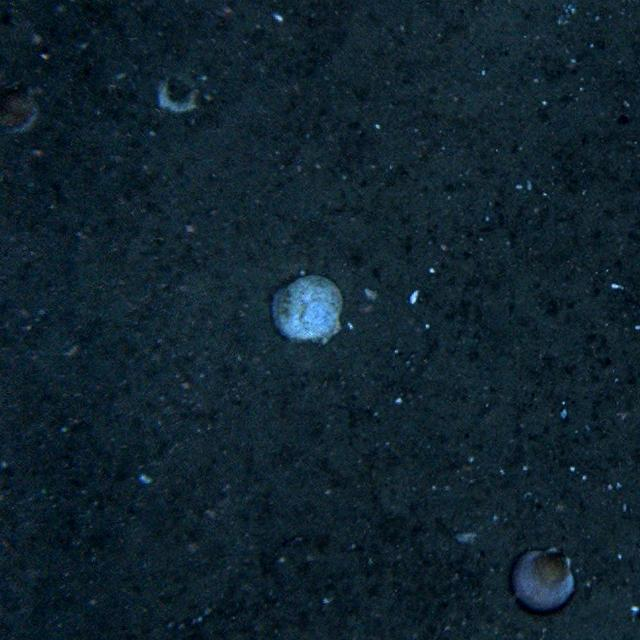scallop: (509, 545, 580, 614)
